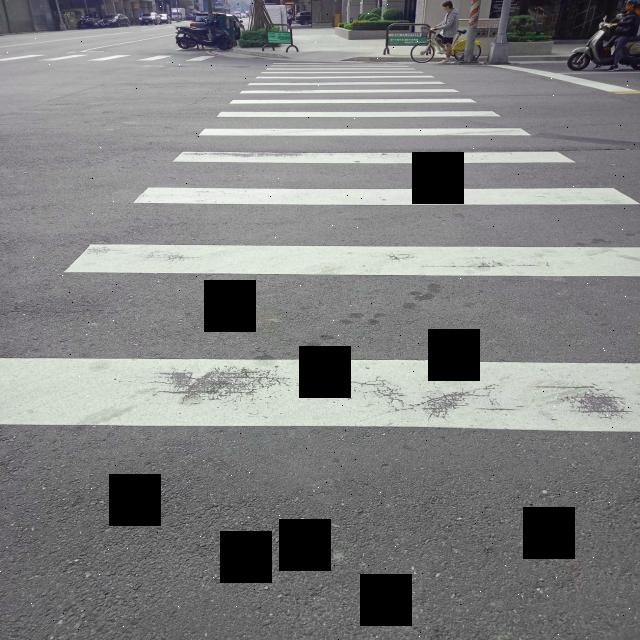person: (608, 0, 640, 71), (433, 0, 458, 63)
zebra crossing: (0, 60, 639, 435), (2, 55, 218, 65)
